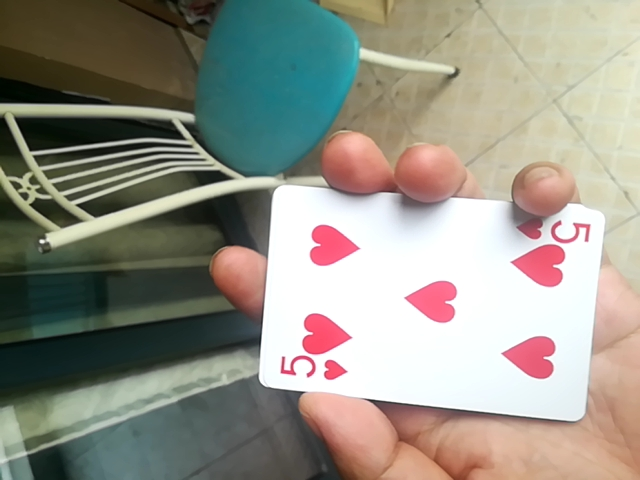hx 5: (264, 186, 608, 426)
